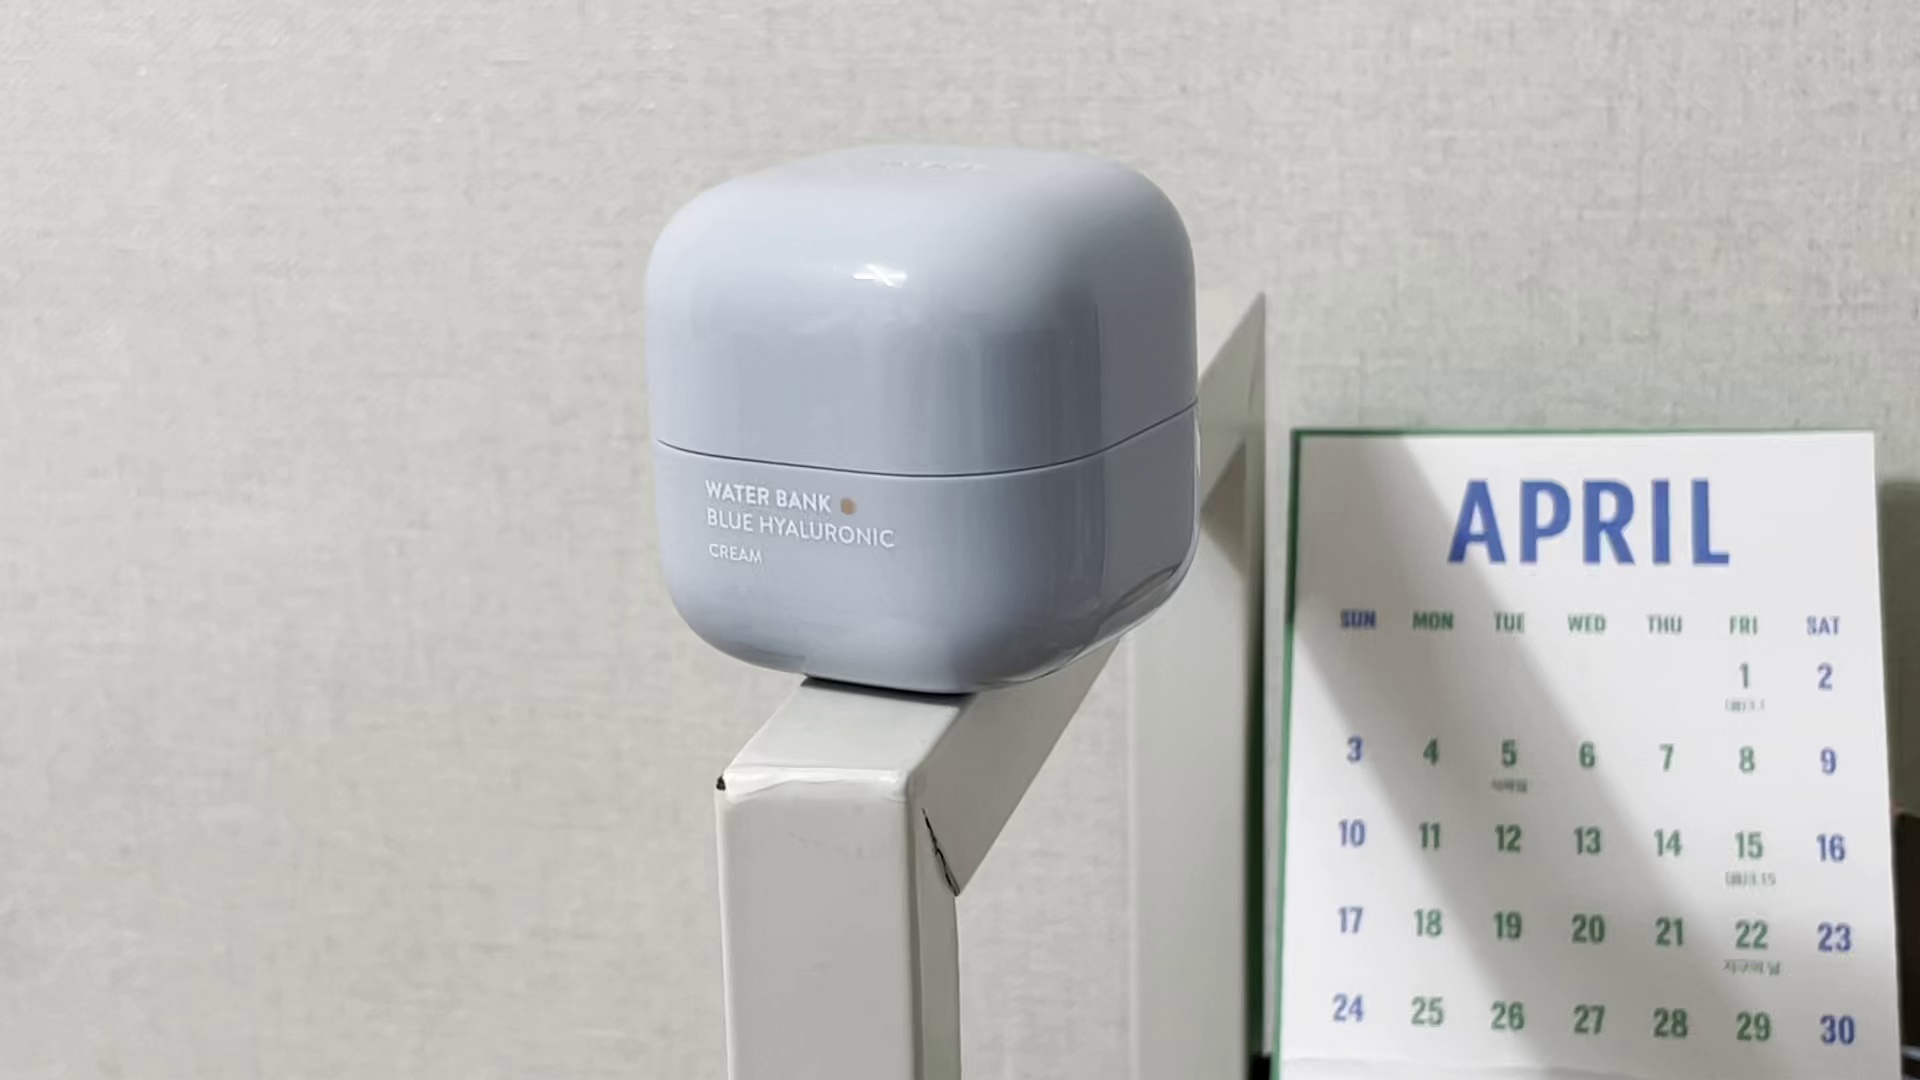cream: (654, 129, 1205, 686)
